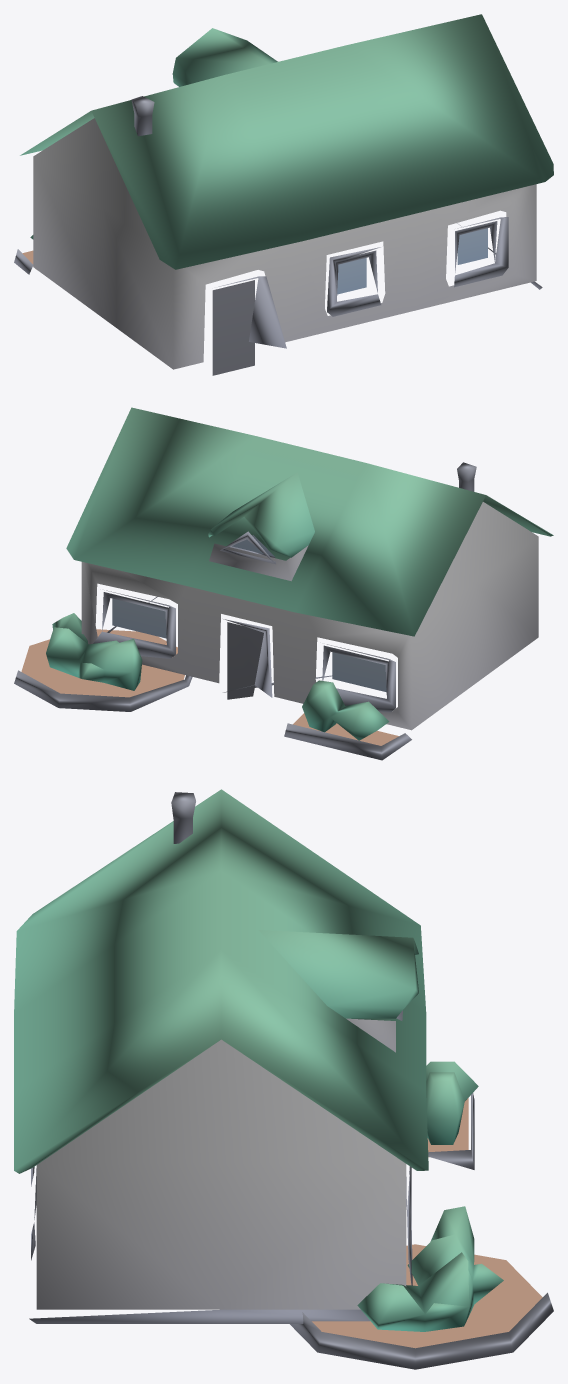
The picture shows the model from 3 angles, top to bottom: view 1: azimuth 30°, elevation 25°; view 2: azimuth 150°, elevation 25°; view 3: azimuth 270°, elevation 25°; orthographic projection. The views are drawn at different scales.
Size of the model in its own units: 11.6 by 6.01 by 9.35.
